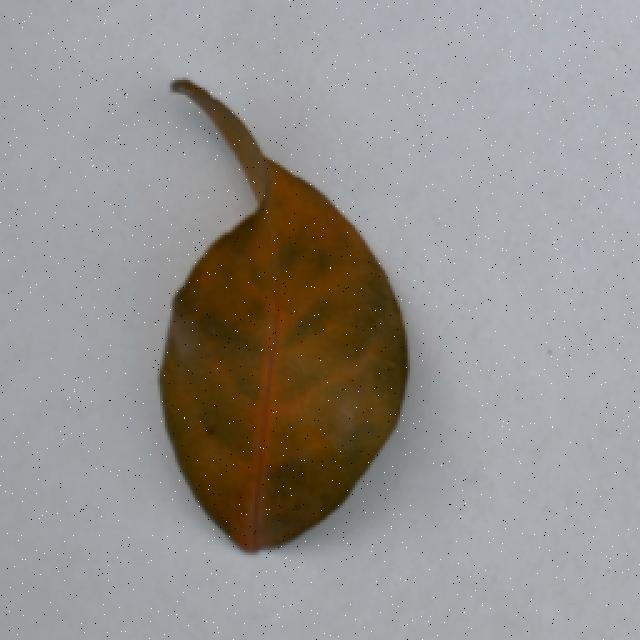greening: (124, 73, 415, 557)
